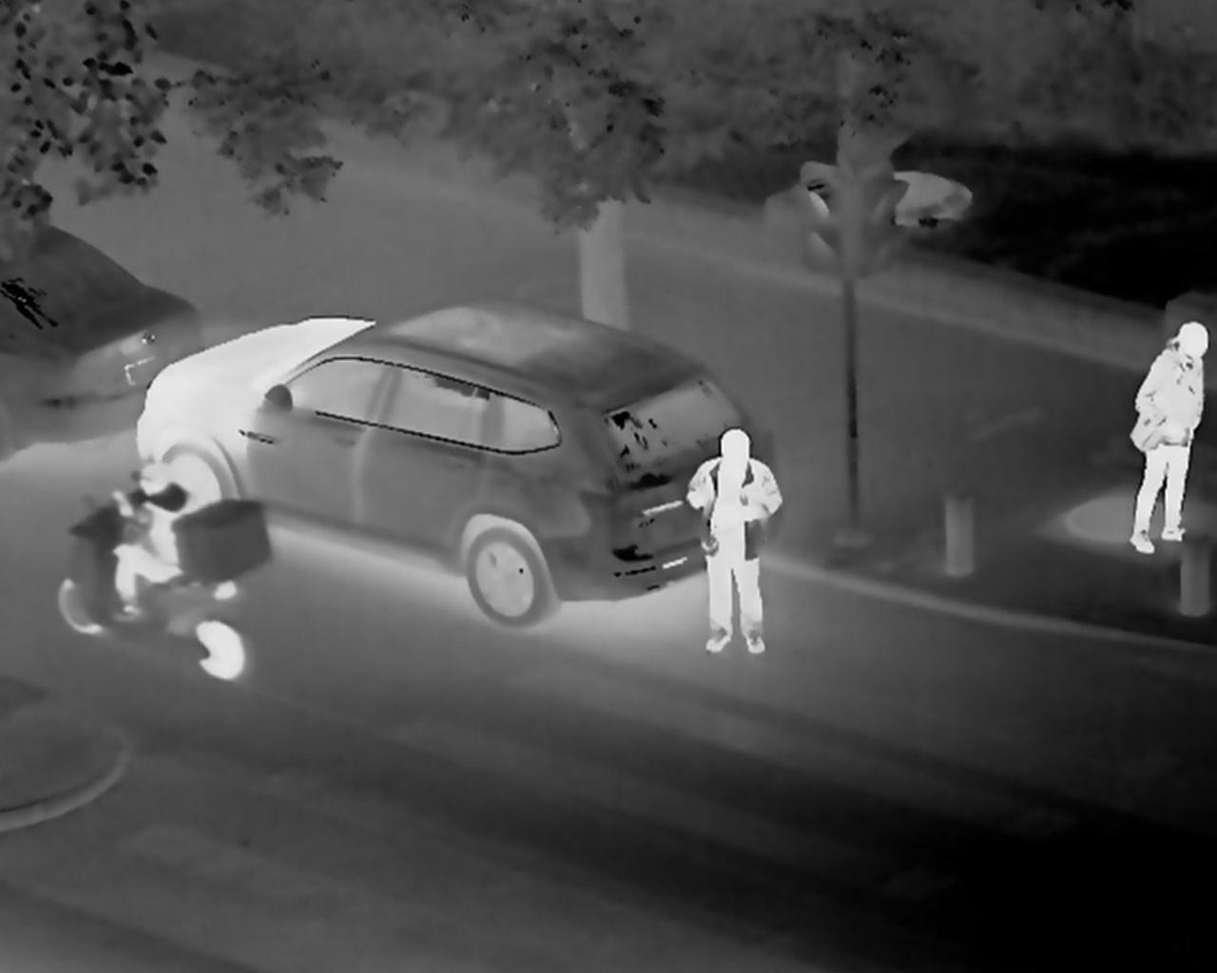person: (675, 429, 805, 654), (1133, 310, 1205, 613), (116, 449, 215, 618)
